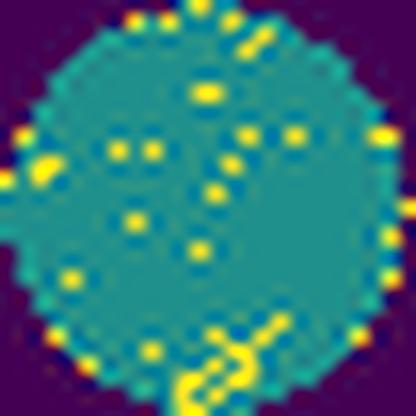Scratch: (168, 307, 298, 416)
